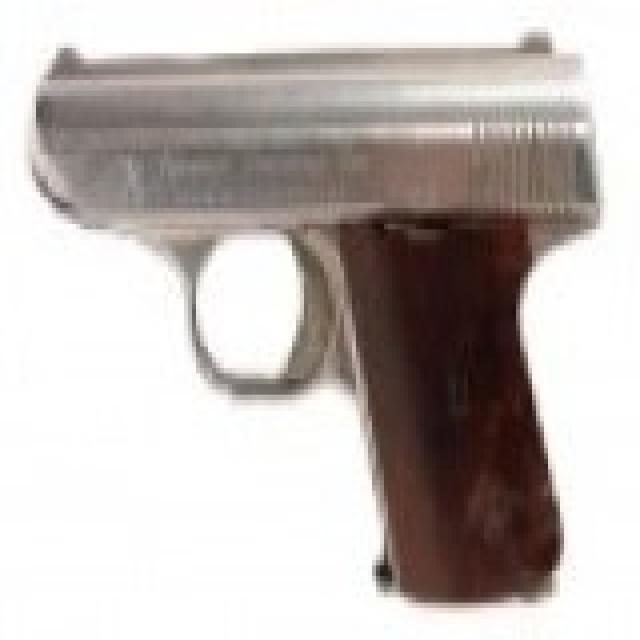gun: (44, 27, 612, 609)
